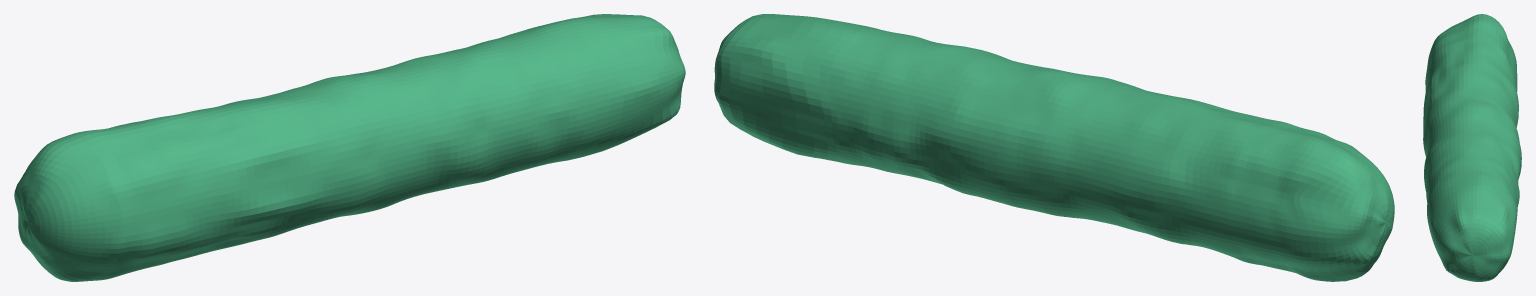
Rendered from N0tail.fbx.
3 renders of one model, left to right at view 1: azimuth 30°, elevation 25°; view 2: azimuth 150°, elevation 25°; view 3: azimuth 270°, elevation 25°, orthographic. The views are drawn at different scales.
Parts seen in each view (by area): view 1: N0tail; view 2: N0tail; view 3: N0tail.
Boxes of the visible parts, x1,y1,x2,y2 form: N0tail: (14,14,685,281); N0tail: (714,14,1394,281); N0tail: (1423,14,1521,281).
Size of the model in its own units: 380 by 76.44 by 75.2.
